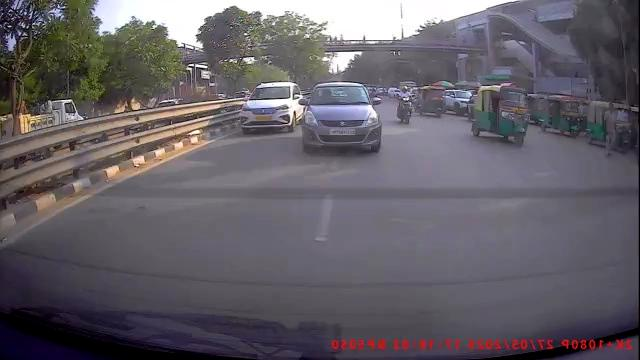motorcycle_with_helmet: (393, 84, 414, 125)
